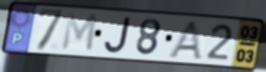2: (205, 23, 235, 62)
7: (37, 7, 67, 54)
8: (135, 18, 163, 57)
A: (166, 20, 204, 61)
J: (103, 15, 133, 55)
M: (60, 11, 99, 54)
